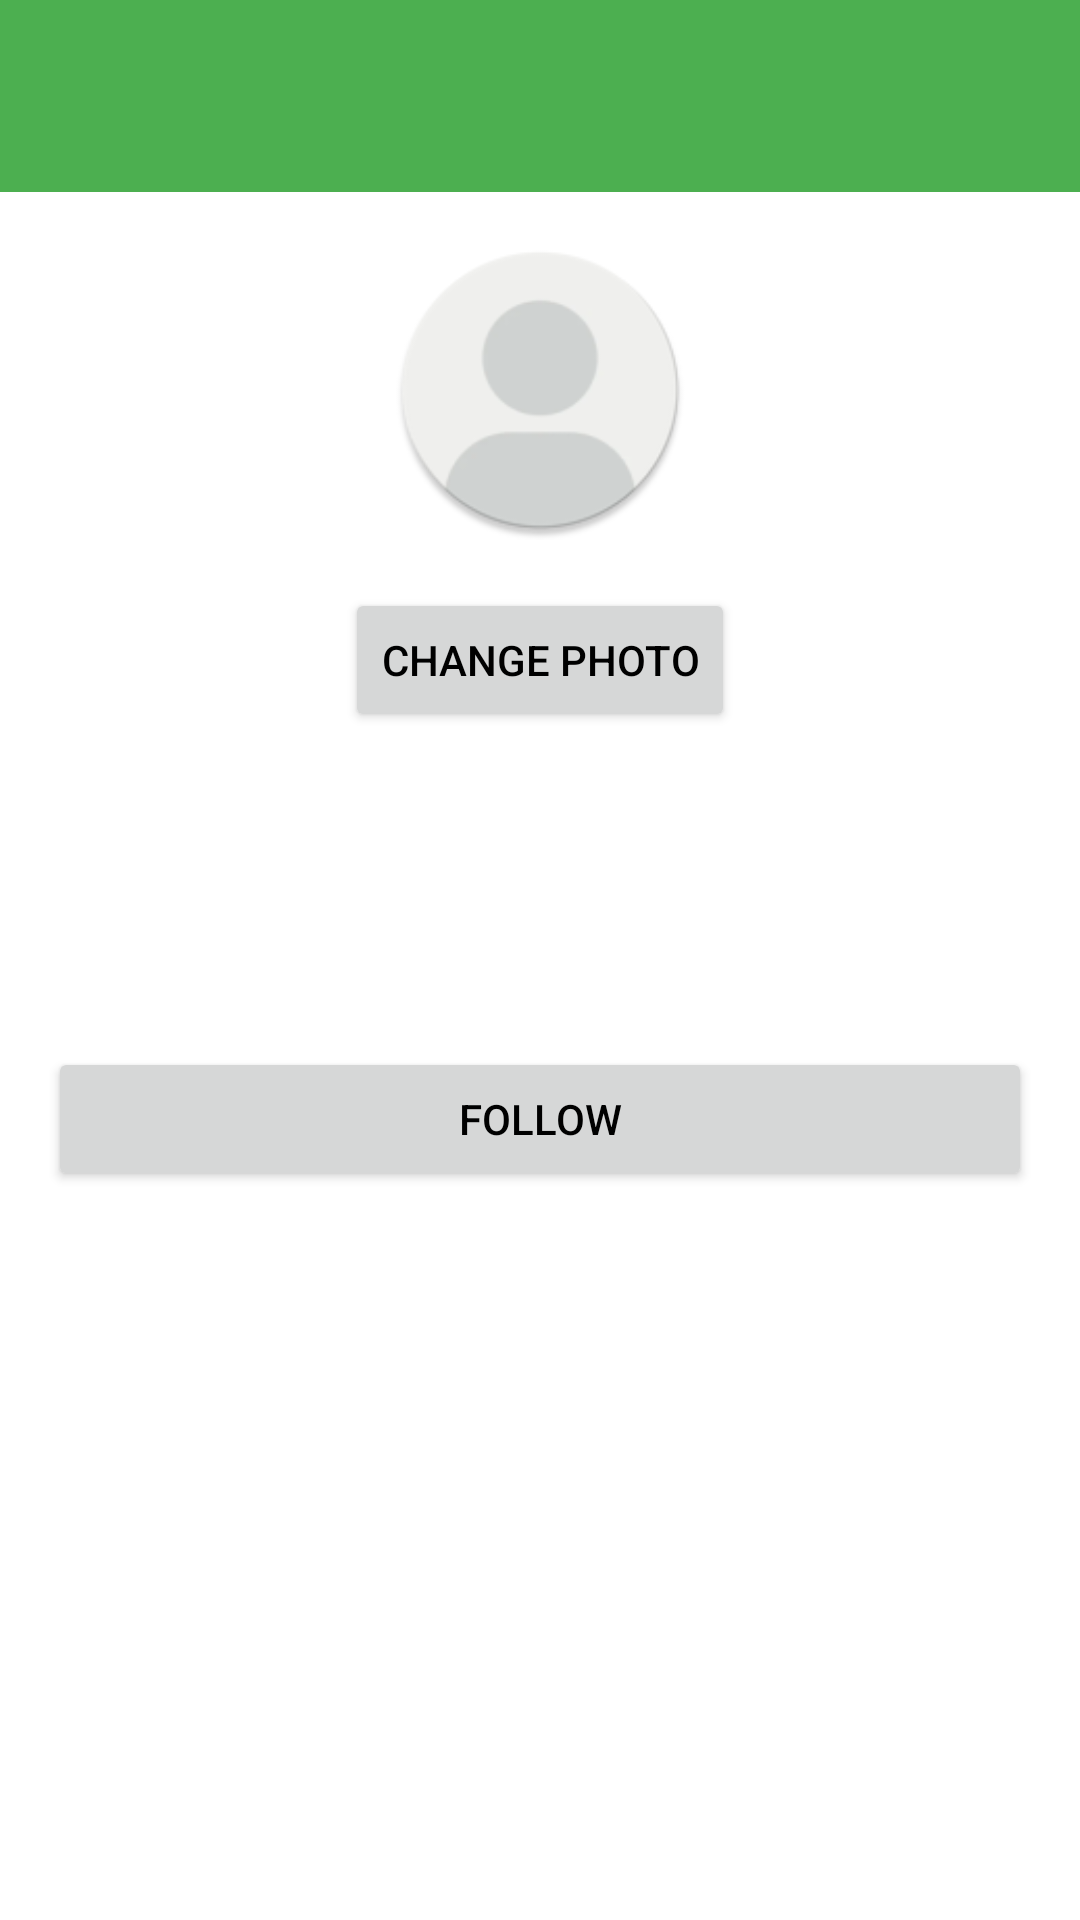

Point at icon controls on the screen. Image size 1080w x 1920h, points as [x,y].
noimageprofile round: [540,394]
